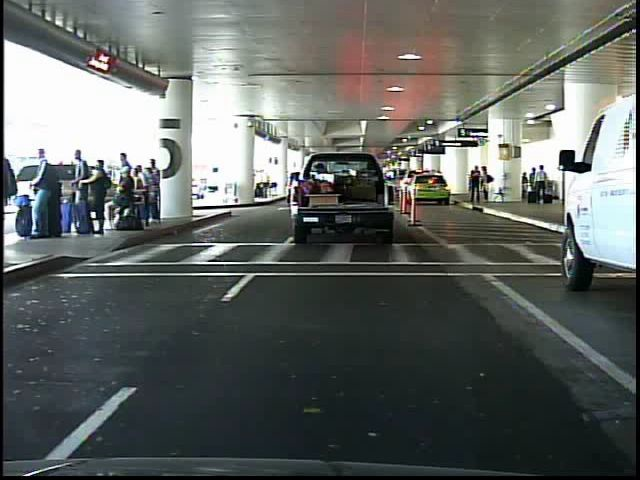person: (477, 165, 493, 205), (467, 163, 480, 204)
